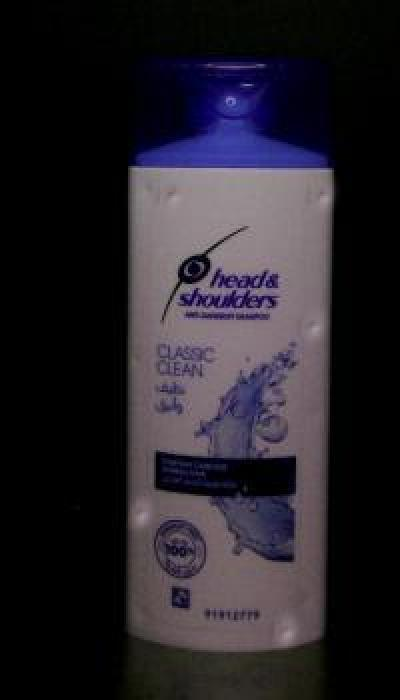dent_unacc: (266, 619, 306, 651), (300, 304, 326, 344), (158, 185, 192, 213), (130, 500, 154, 534), (310, 185, 334, 213)
